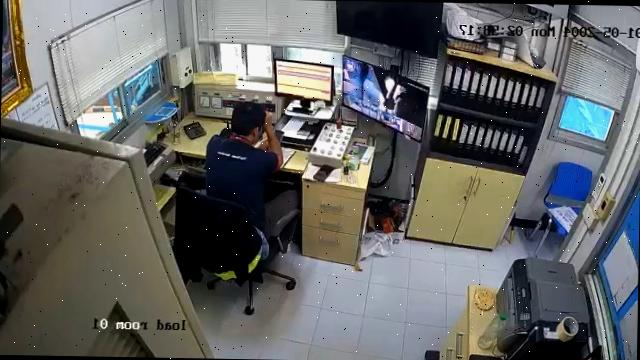Head: (228, 100, 268, 140)
People: (202, 100, 298, 219)
Phone: (311, 163, 336, 182), (272, 129, 285, 142)
